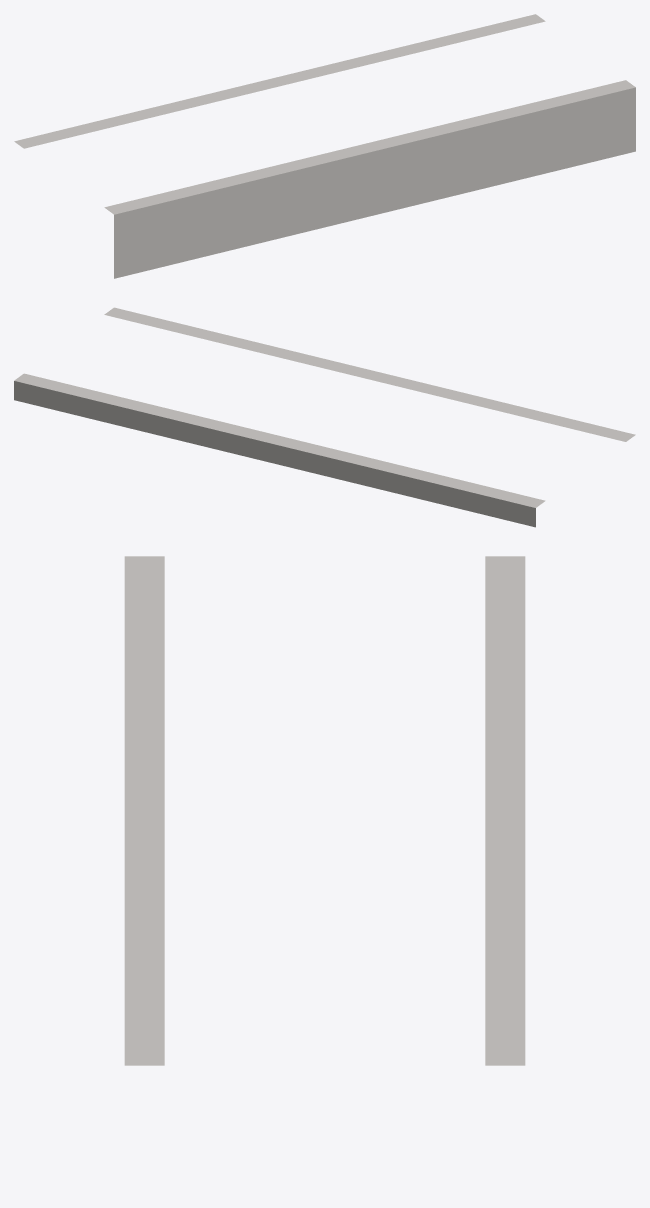
The model's file is kd_stage_135b75_4_27_bounded_portal.glb.
3 views of the same model, one above another, from view 1: azimuth 30°, elevation 25°; view 2: azimuth 150°, elevation 25°; view 3: azimuth 270°, elevation 25° (orthographic). The views are drawn at different scales.
Visible parts, largest first — view 1: kd_stage_135b75_4_27_bounded_portal; view 2: kd_stage_135b75_4_27_bounded_portal; view 3: kd_stage_135b75_4_27_bounded_portal.
Part boxes in pixels (<box>): kd_stage_135b75_4_27_bounded_portal: <box>14,14,635,278</box>; kd_stage_135b75_4_27_bounded_portal: <box>14,307,635,527</box>; kd_stage_135b75_4_27_bounded_portal: <box>124,556,525,1065</box>.
Bounding box in the file's own units: 0.141 × 0.0166 × 0.0469.
1 material, 1 textured.
